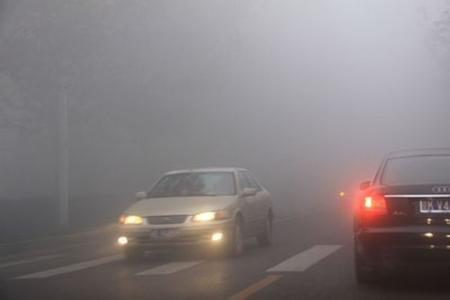car: (116, 166, 275, 263), (351, 146, 450, 285)
